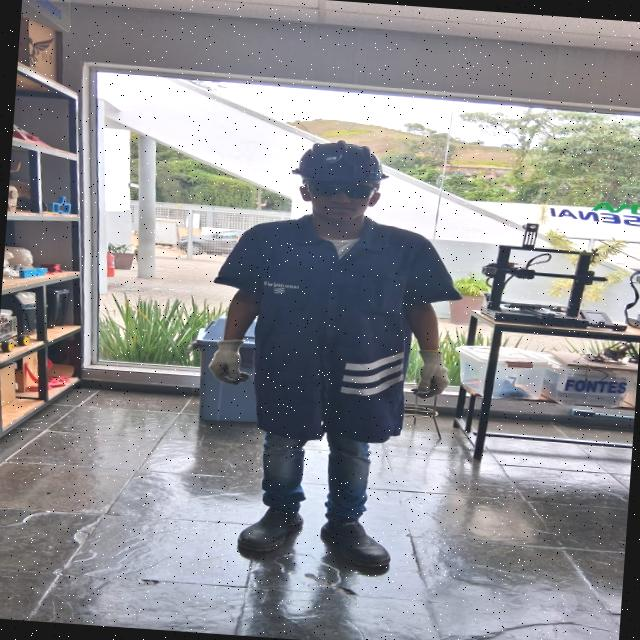BOTA: (317, 514, 404, 572), (235, 501, 310, 554)
CAPACETE: (292, 137, 393, 181)
JALECO: (210, 211, 467, 445)
LUVA: (199, 338, 262, 387), (408, 347, 455, 400)
OCULOS: (301, 178, 378, 200)
